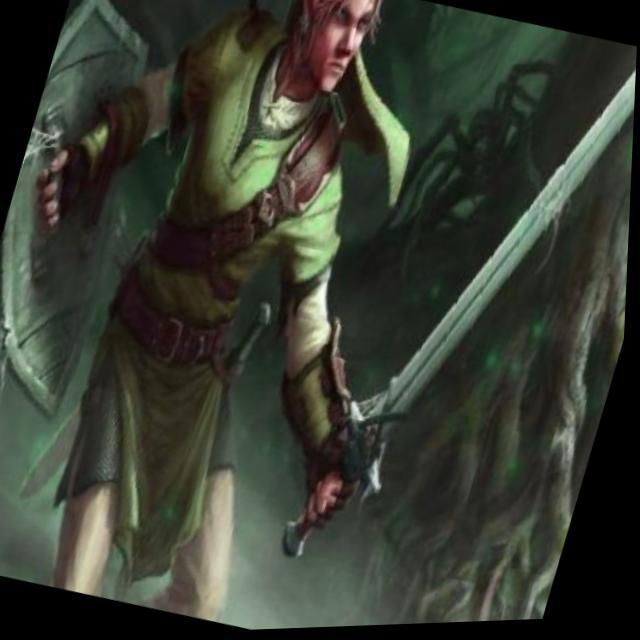weapon: (275, 0, 639, 623)
